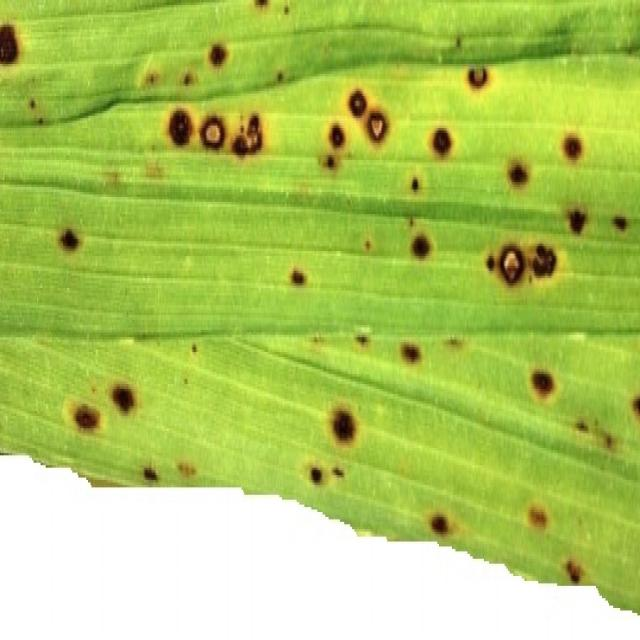brown spot: (155, 87, 205, 163), (59, 381, 110, 452), (527, 231, 574, 303), (418, 494, 469, 551), (47, 205, 90, 270), (228, 108, 276, 166), (321, 396, 370, 452), (523, 352, 565, 413), (0, 0, 31, 81), (105, 367, 143, 431), (405, 216, 445, 269), (496, 234, 527, 301), (298, 443, 332, 504), (321, 108, 350, 179), (359, 106, 399, 157), (513, 496, 556, 542), (425, 118, 465, 166), (201, 29, 238, 80), (336, 78, 373, 126), (502, 144, 534, 199), (195, 108, 228, 158), (437, 313, 470, 361), (559, 123, 589, 173), (460, 55, 494, 99), (561, 544, 589, 594), (396, 328, 427, 372), (564, 191, 590, 243), (285, 260, 317, 300), (170, 449, 202, 487), (324, 457, 352, 496), (347, 322, 377, 356), (480, 237, 499, 284), (140, 62, 167, 95), (178, 59, 198, 102), (610, 199, 630, 241), (26, 87, 44, 132), (627, 377, 640, 438), (139, 454, 162, 486), (185, 332, 205, 368), (402, 168, 427, 194), (572, 403, 591, 437), (604, 424, 620, 463), (273, 68, 288, 95), (253, 0, 270, 15)
